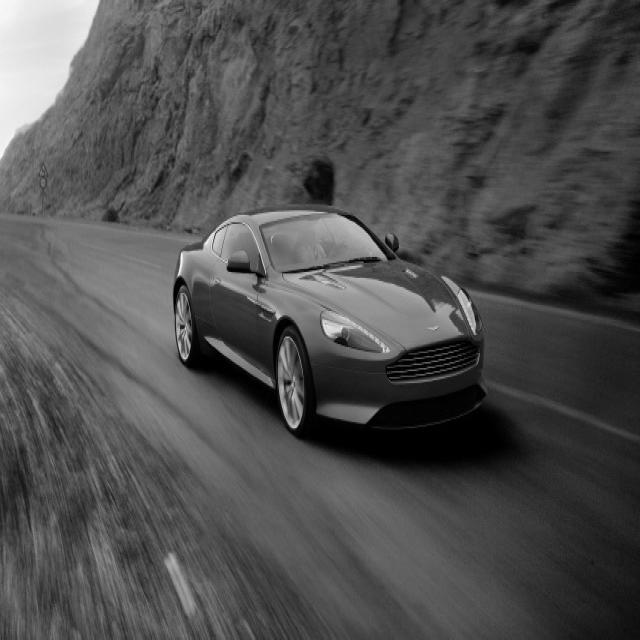car: (172, 201, 487, 439)
